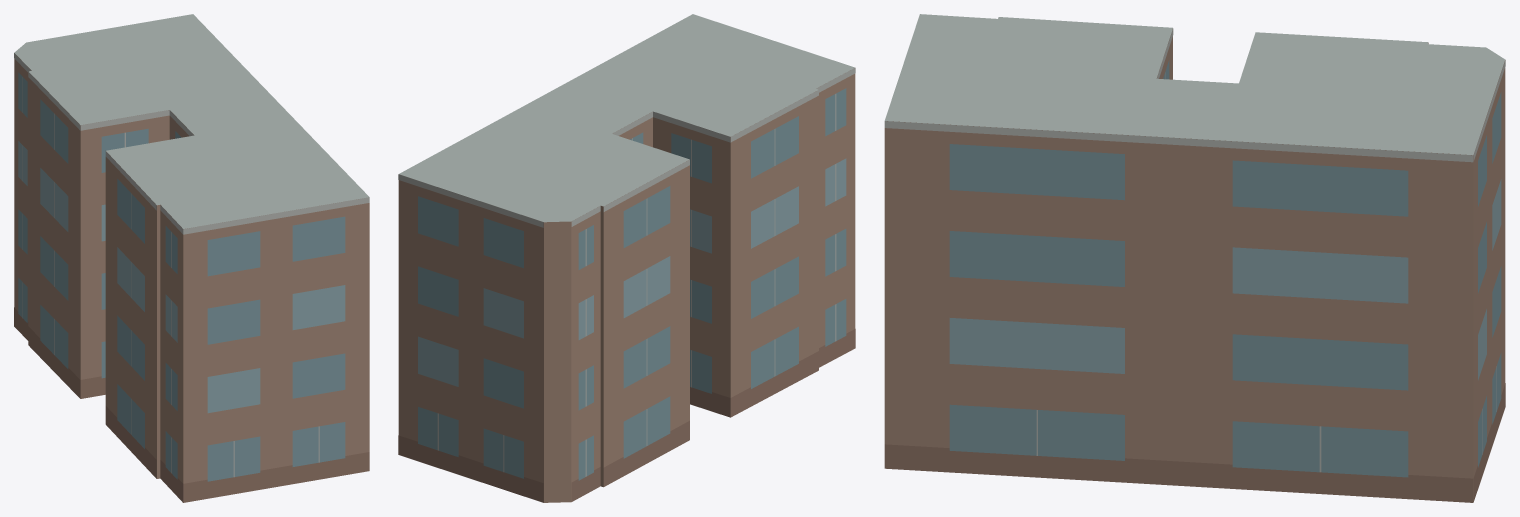
Rendered from survey-upis-32632301.glb.
3 views of the same model, side by side, from view 1: azimuth 30°, elevation 25°; view 2: azimuth 150°, elevation 25°; view 3: azimuth 270°, elevation 25° (orthographic). The views are drawn at different scales.
Visible parts, largest first — view 1: survey-upis-32632301.tmp; view 2: survey-upis-32632301.tmp; view 3: survey-upis-32632301.tmp.
Boxes of the visible parts, left/top/right/bottom form: survey-upis-32632301.tmp: left=14, top=14, right=369, bottom=502; survey-upis-32632301.tmp: left=398, top=14, right=855, bottom=502; survey-upis-32632301.tmp: left=884, top=14, right=1505, bottom=502.
Size of the model in its own units: 10.37 by 11.9 by 19.27.
